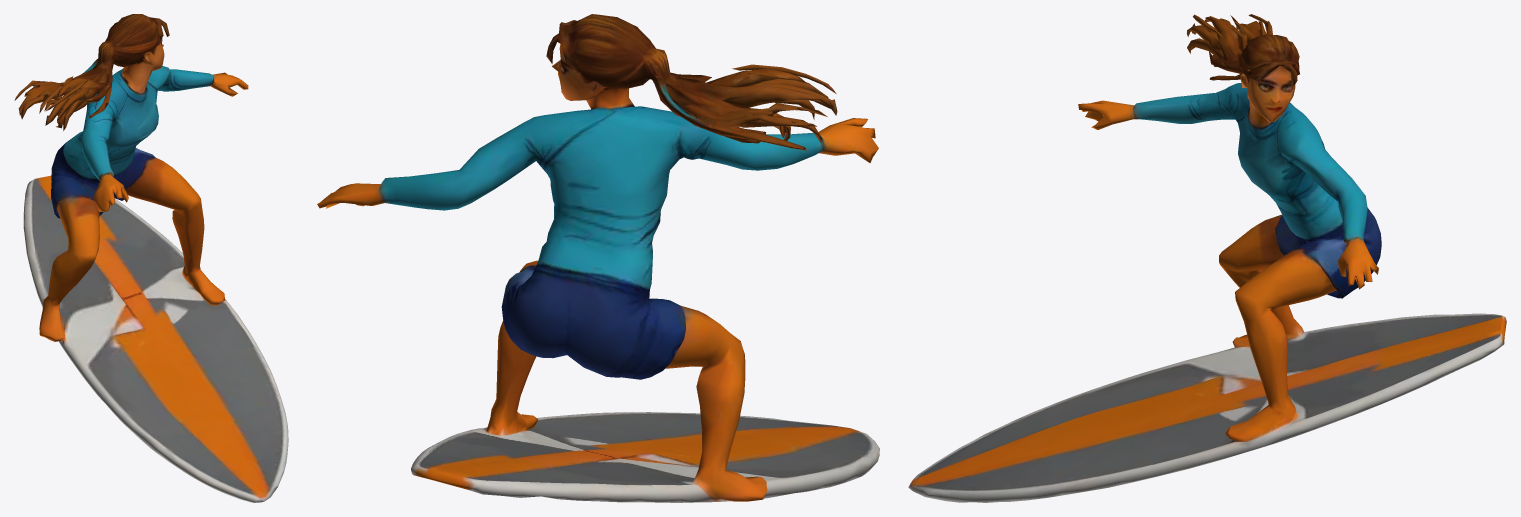
The model's file is surfer.glb.
The picture shows the model from 3 angles, left to right: view 1: azimuth 30°, elevation 25°; view 2: azimuth 150°, elevation 25°; view 3: azimuth 270°, elevation 25°; orthographic projection. The views are drawn at different scales.
Visible parts, largest first — view 1: tripo_node_c08197ca-ab64-4317-998c-7e34692b1723; view 2: tripo_node_c08197ca-ab64-4317-998c-7e34692b1723; view 3: tripo_node_c08197ca-ab64-4317-998c-7e34692b1723.
Boxes of the visible parts, box(x1,y1,x2,y2) form: tripo_node_c08197ca-ab64-4317-998c-7e34692b1723: box(14, 14, 288, 502); tripo_node_c08197ca-ab64-4317-998c-7e34692b1723: box(317, 14, 879, 502); tripo_node_c08197ca-ab64-4317-998c-7e34692b1723: box(908, 14, 1506, 502).
Size of the model in its own units: 0.6668 by 0.8575 by 1.
Materials: 1 (1 with a texture image).
